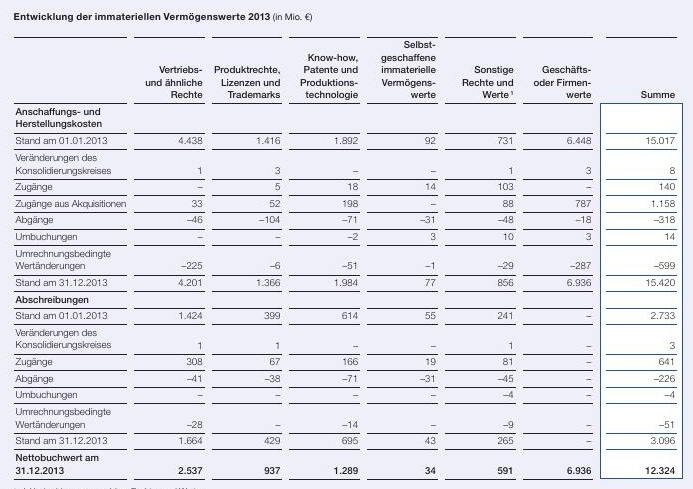table: (0, 0, 693, 489)
